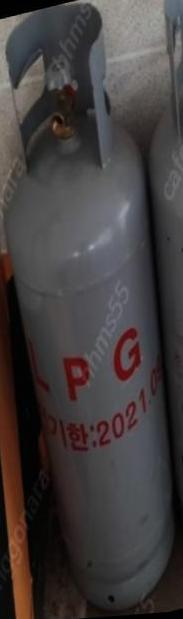cylinder: (0, 1, 183, 619)
